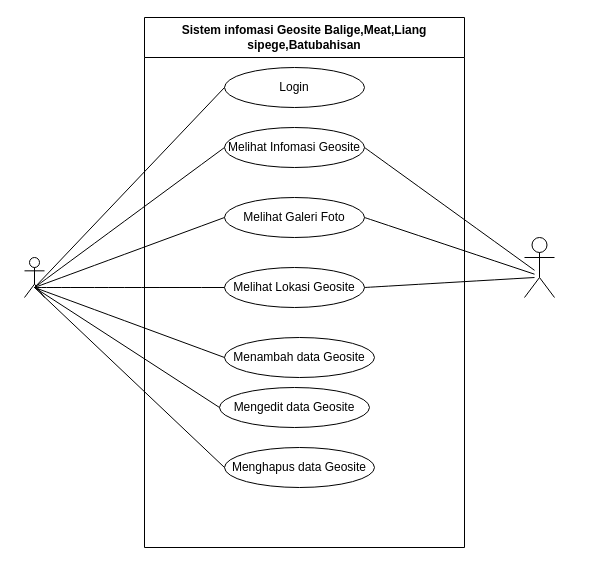
The diagram is 607 pixels wide and 565 high, and some of its shapes have lost their labels. Here are the shapes that lost their labels. From the top down, the box of each, then its label:
(24, 256, 44, 298): Admin
(524, 236, 554, 298): User (Pengunjung)
